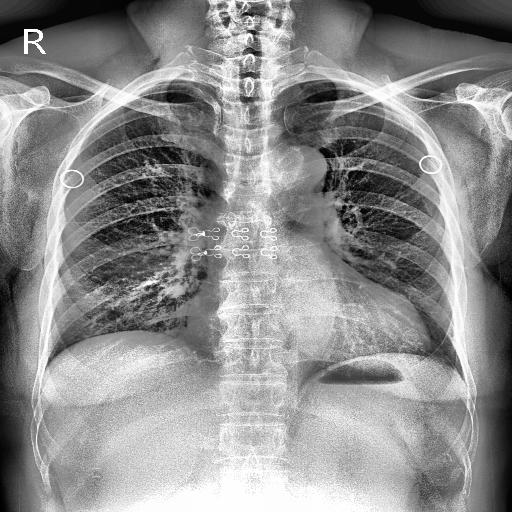0- Aortic enlargement: (265, 148, 327, 206), (264, 144, 328, 187), (272, 146, 328, 188)
3- Cardiomegaly: (177, 304, 434, 392), (177, 292, 439, 375), (184, 290, 430, 362)
